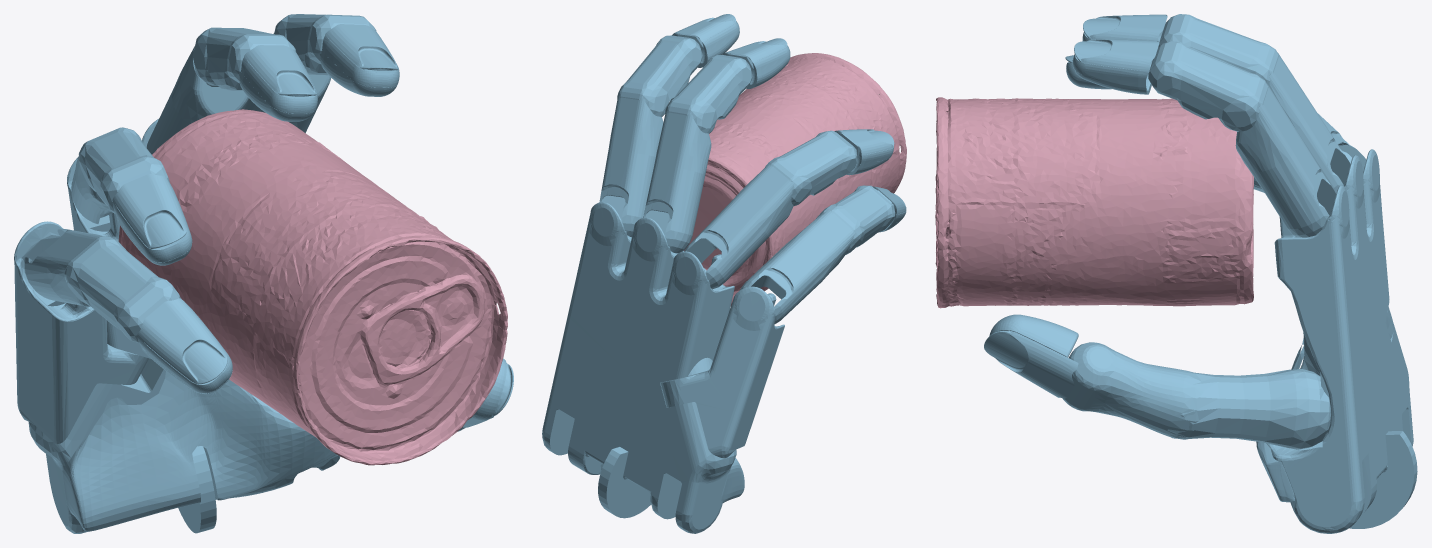
3 views of the same model, side by side, from view 1: azimuth 30°, elevation 25°; view 2: azimuth 150°, elevation 25°; view 3: azimuth 270°, elevation 25° (orthographic). The views are drawn at different scales.
Parts seen in each view (by area): view 1: world, tomato_soup_can.stl; view 2: world, tomato_soup_can.stl; view 3: world, tomato_soup_can.stl.
Boxes of the visible parts, x1,y1,x2,y2 form: world: (14, 14, 513, 533); tomato_soup_can.stl: (118, 109, 507, 465); world: (542, 14, 906, 533); tomato_soup_can.stl: (684, 53, 906, 306); world: (984, 14, 1417, 533); tomato_soup_can.stl: (935, 97, 1253, 308).
Bounding box in the file's own units: 0.1141 × 0.1757 × 0.1541.
